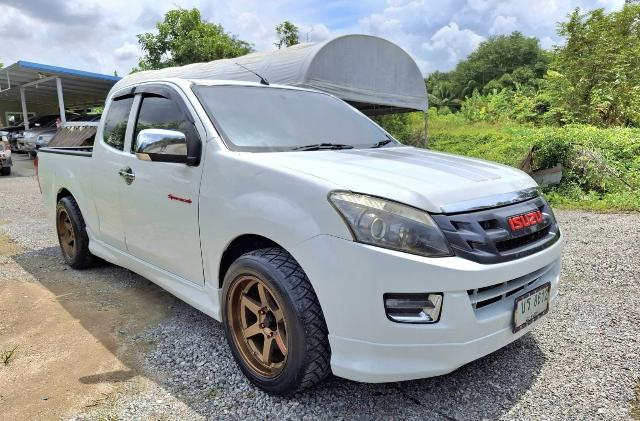pickup-truck: (33, 64, 569, 405)
